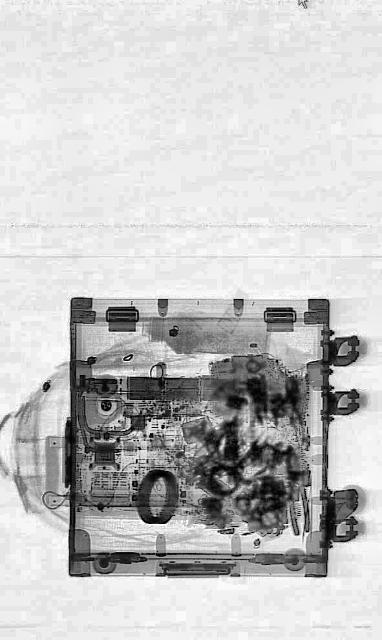Pliers: (282, 443, 312, 537)
